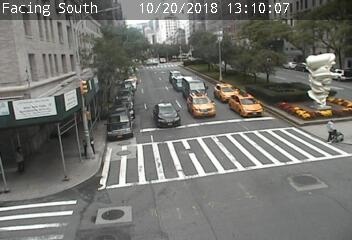car: (232, 96, 261, 119), (213, 81, 236, 104), (155, 104, 178, 124), (188, 97, 213, 115), (187, 78, 205, 93), (171, 76, 184, 89), (168, 69, 181, 76)
